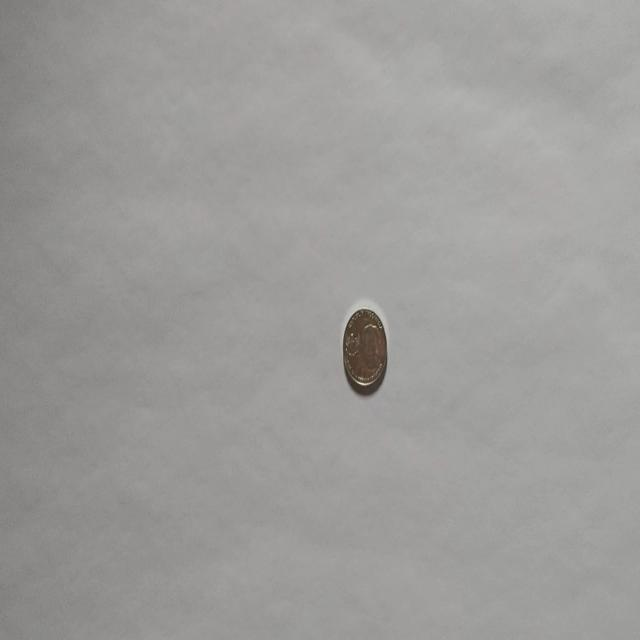seratus rupiah: (342, 305, 388, 392)
